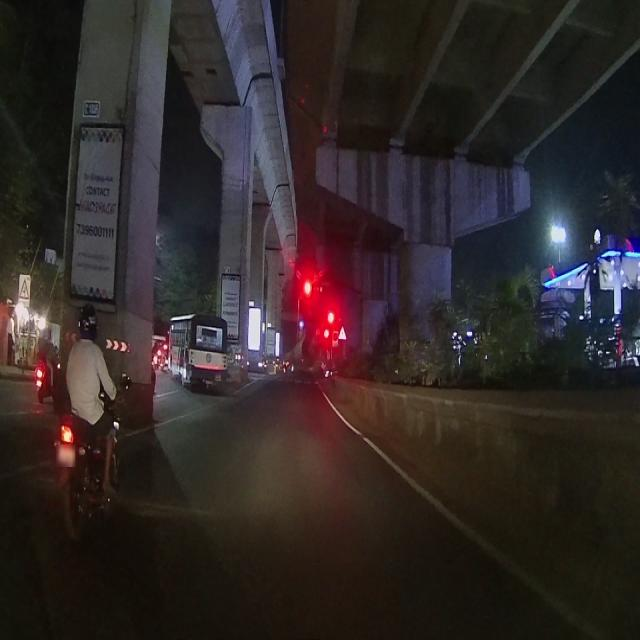side-road-left: (18, 270, 32, 304)
